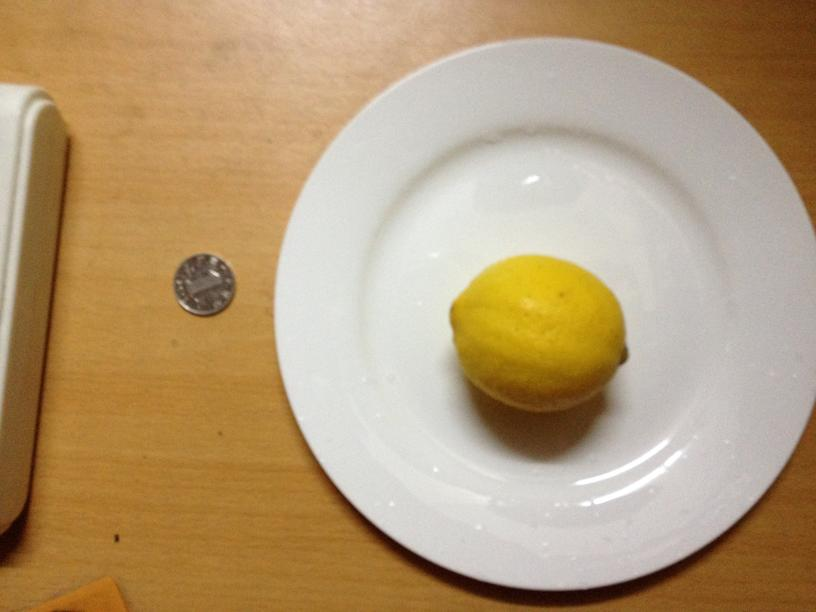coin: (172, 253, 235, 316)
lemon: (453, 256, 627, 410)
